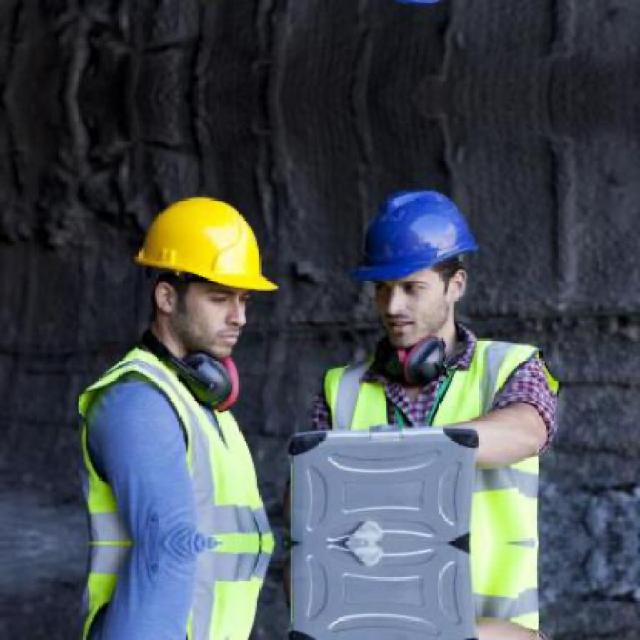helmet: (132, 179, 291, 363), (342, 177, 492, 355)
